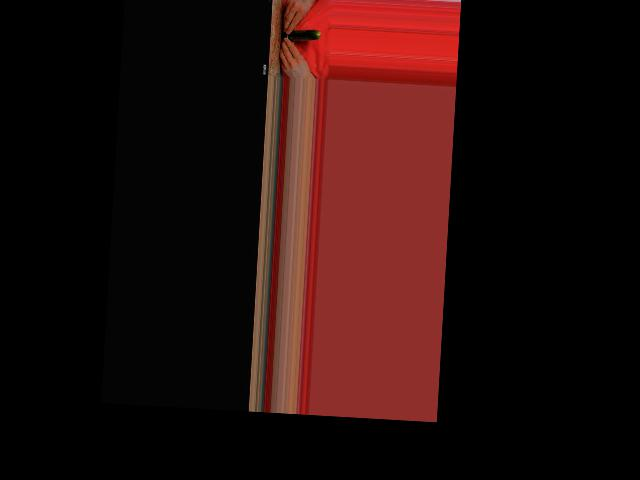cucumber: (281, 27, 320, 42)
